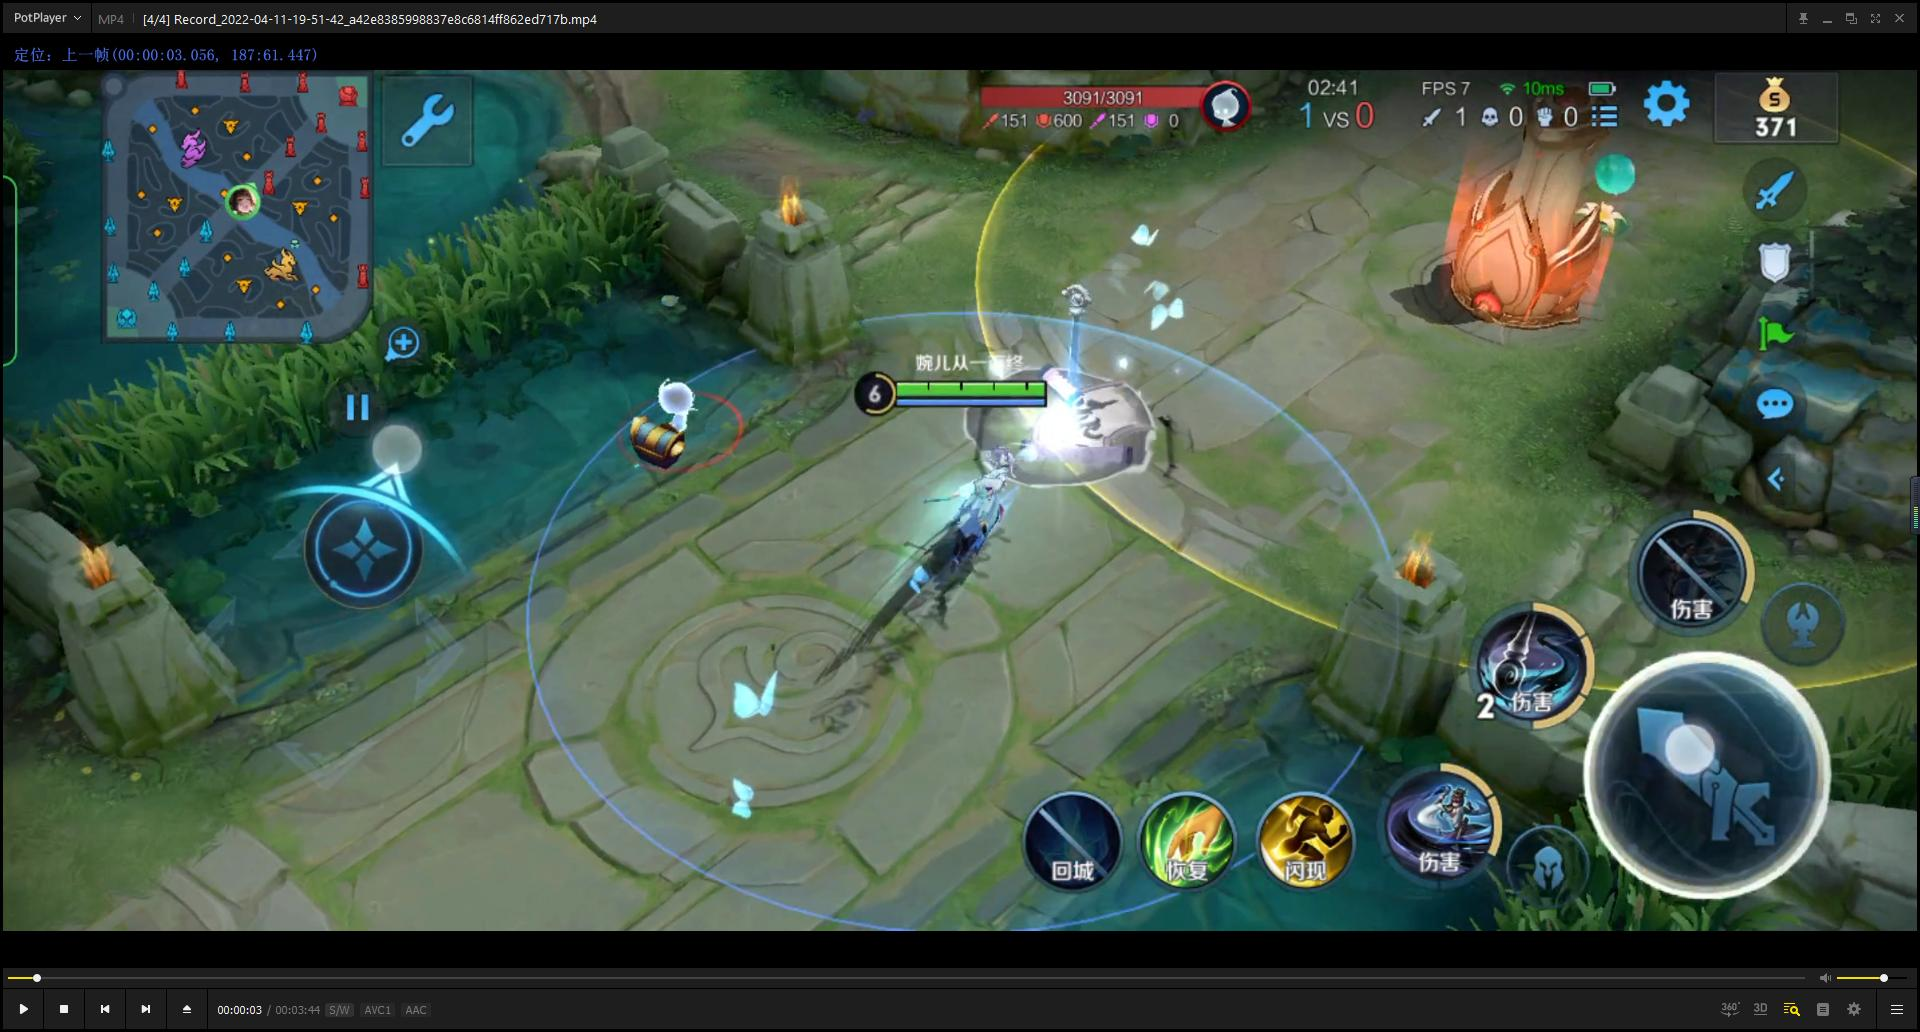Hero: (877, 430, 1122, 625)
Spirit: (601, 358, 740, 496)
Tower: (1408, 72, 1651, 350)
